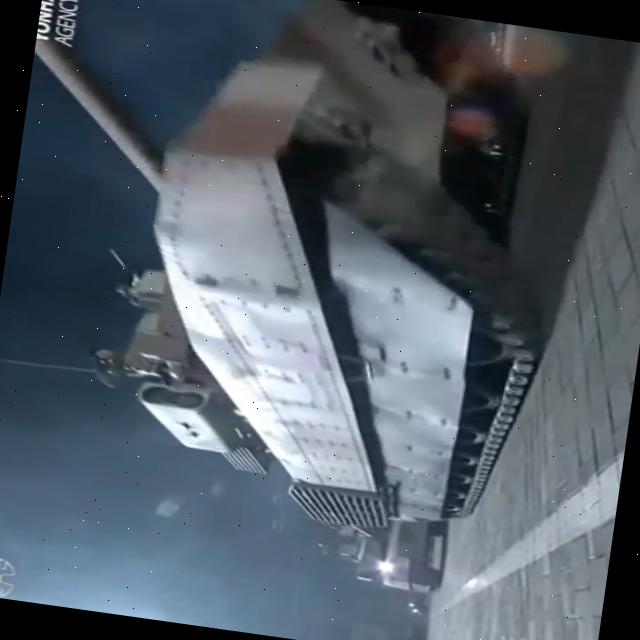north tank: (0, 0, 640, 562), (316, 429, 526, 620)
